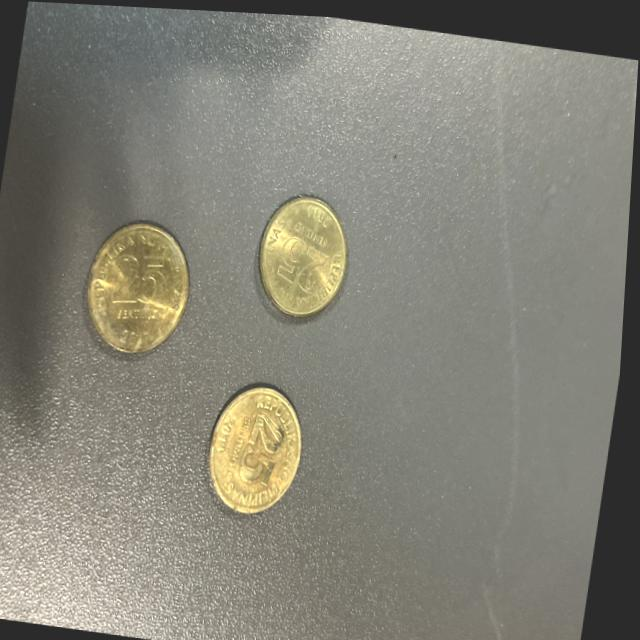25Cent_Old_Front: (103, 232, 177, 330)
